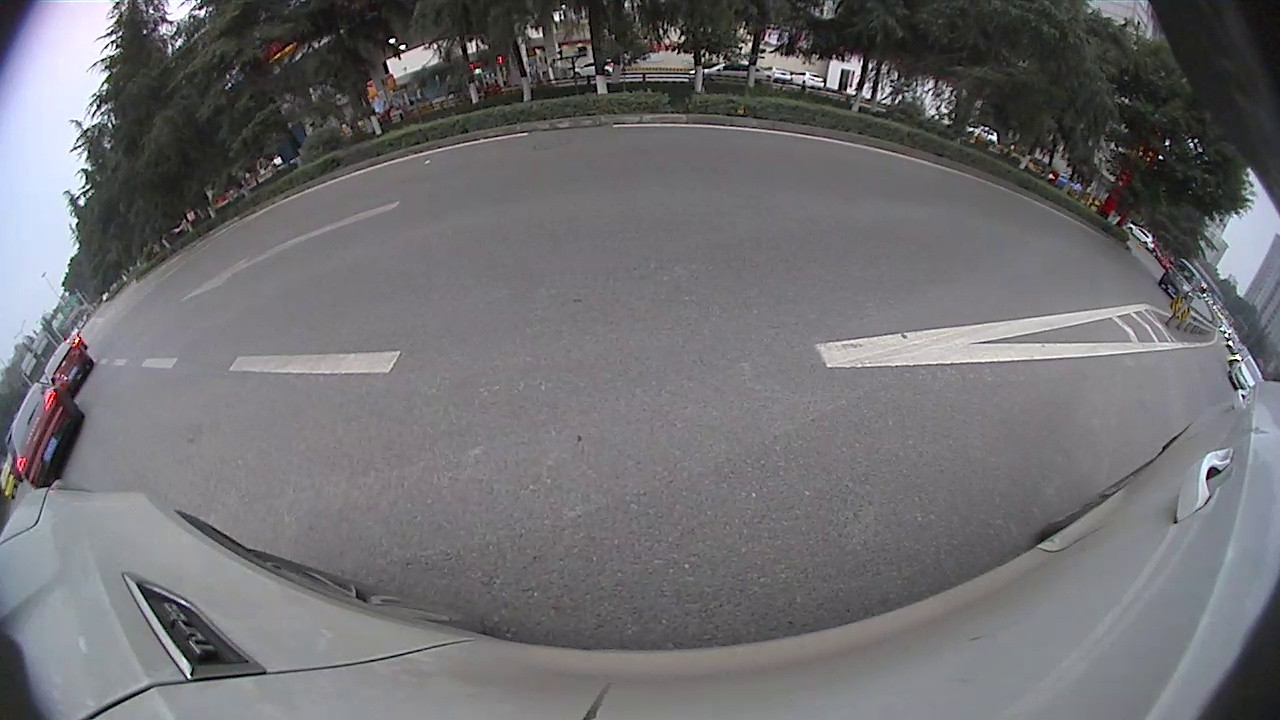car: (14, 382, 86, 493), (43, 347, 93, 398), (1159, 256, 1198, 301)
